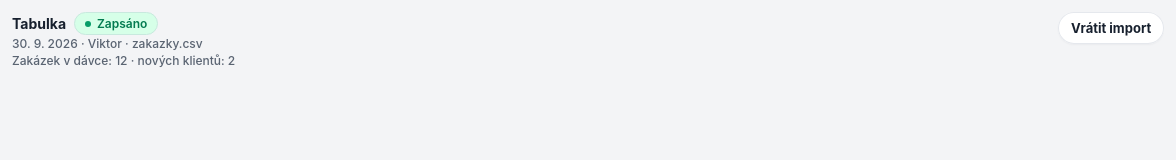
Scenario: historie dávek › vrácení je dvoustupňové a po vrácení ukáže, co zůstalo a proč
Click the button "Vrátit import" at (1111, 28), box [1058,12,1164,44]
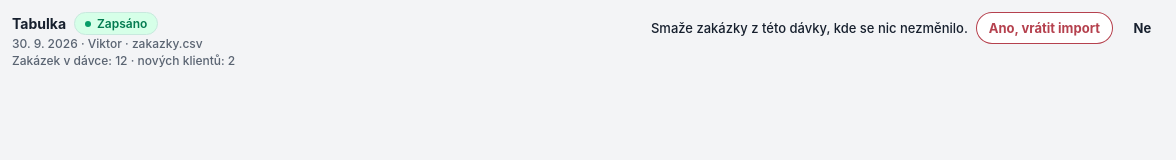
Expected: the text "Smaže zakázky z této dávky, kde se nic nezměnilo." is shown, [651,18,968,38]
Click the button "Ne" at (1142, 28), box [1121,12,1164,44]
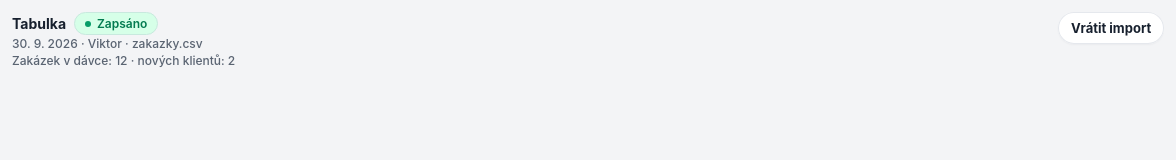
Expected: the text "Ano, vrátit import" is gone
Click the button "Vrátit import" at (1111, 28), box [1058,12,1164,44]
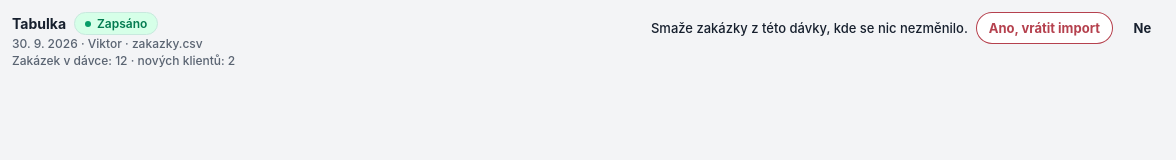
Click the button "Ano, vrátit import" at (1044, 28), box [976,12,1113,44]
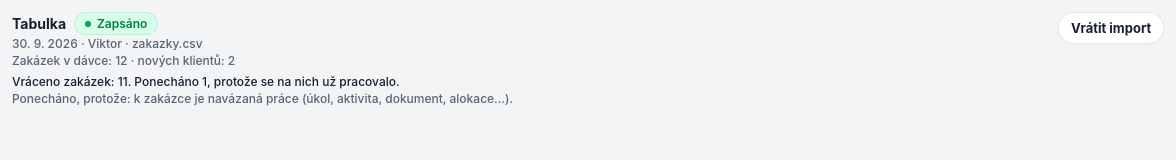
Expected: the text "Ponecháno 1" is shown, [12,74,400,90]
Expected: the text "navázaná práce" is shown, [134,92,510,106]
